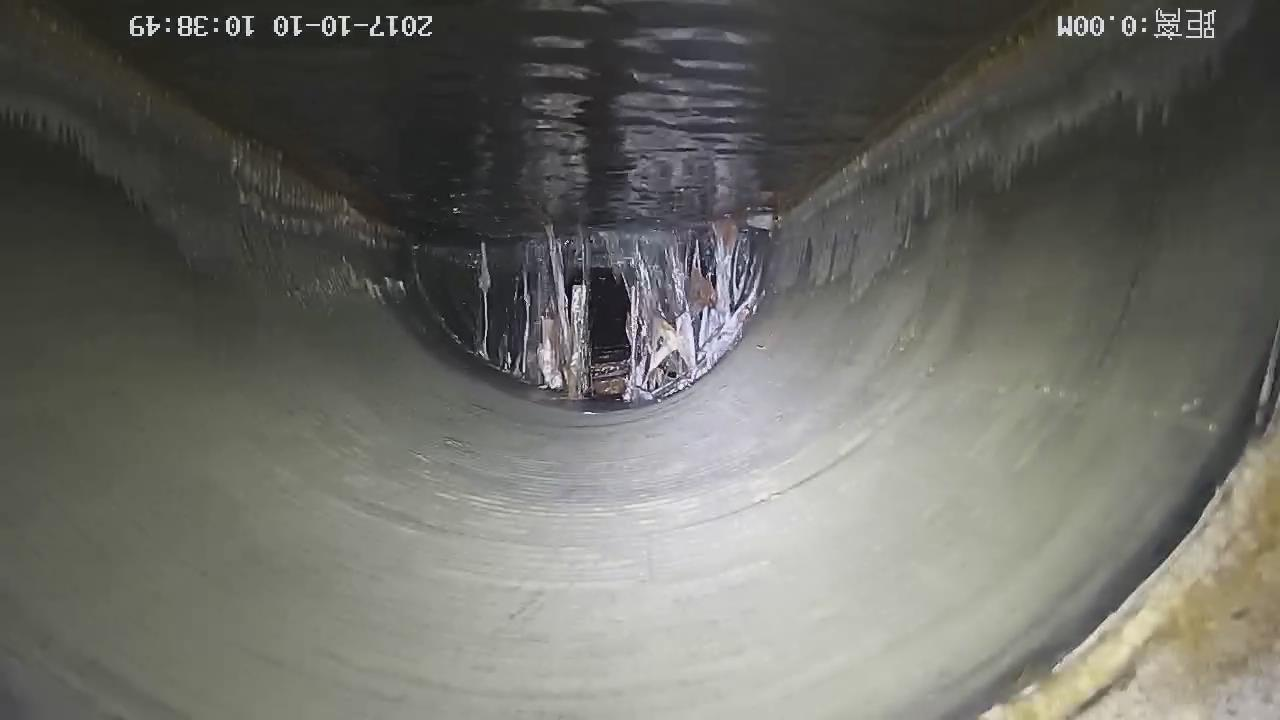JKCL: (442, 224, 765, 403)
SL: (407, 215, 783, 392)
